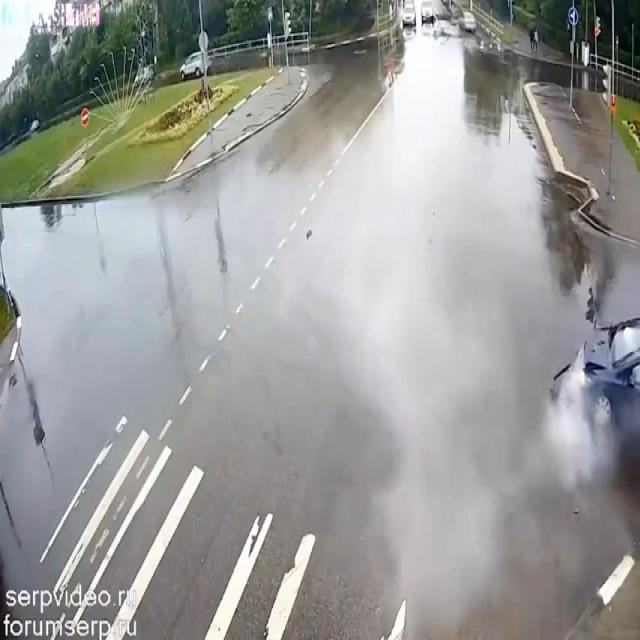Accident: (529, 262, 640, 558)
